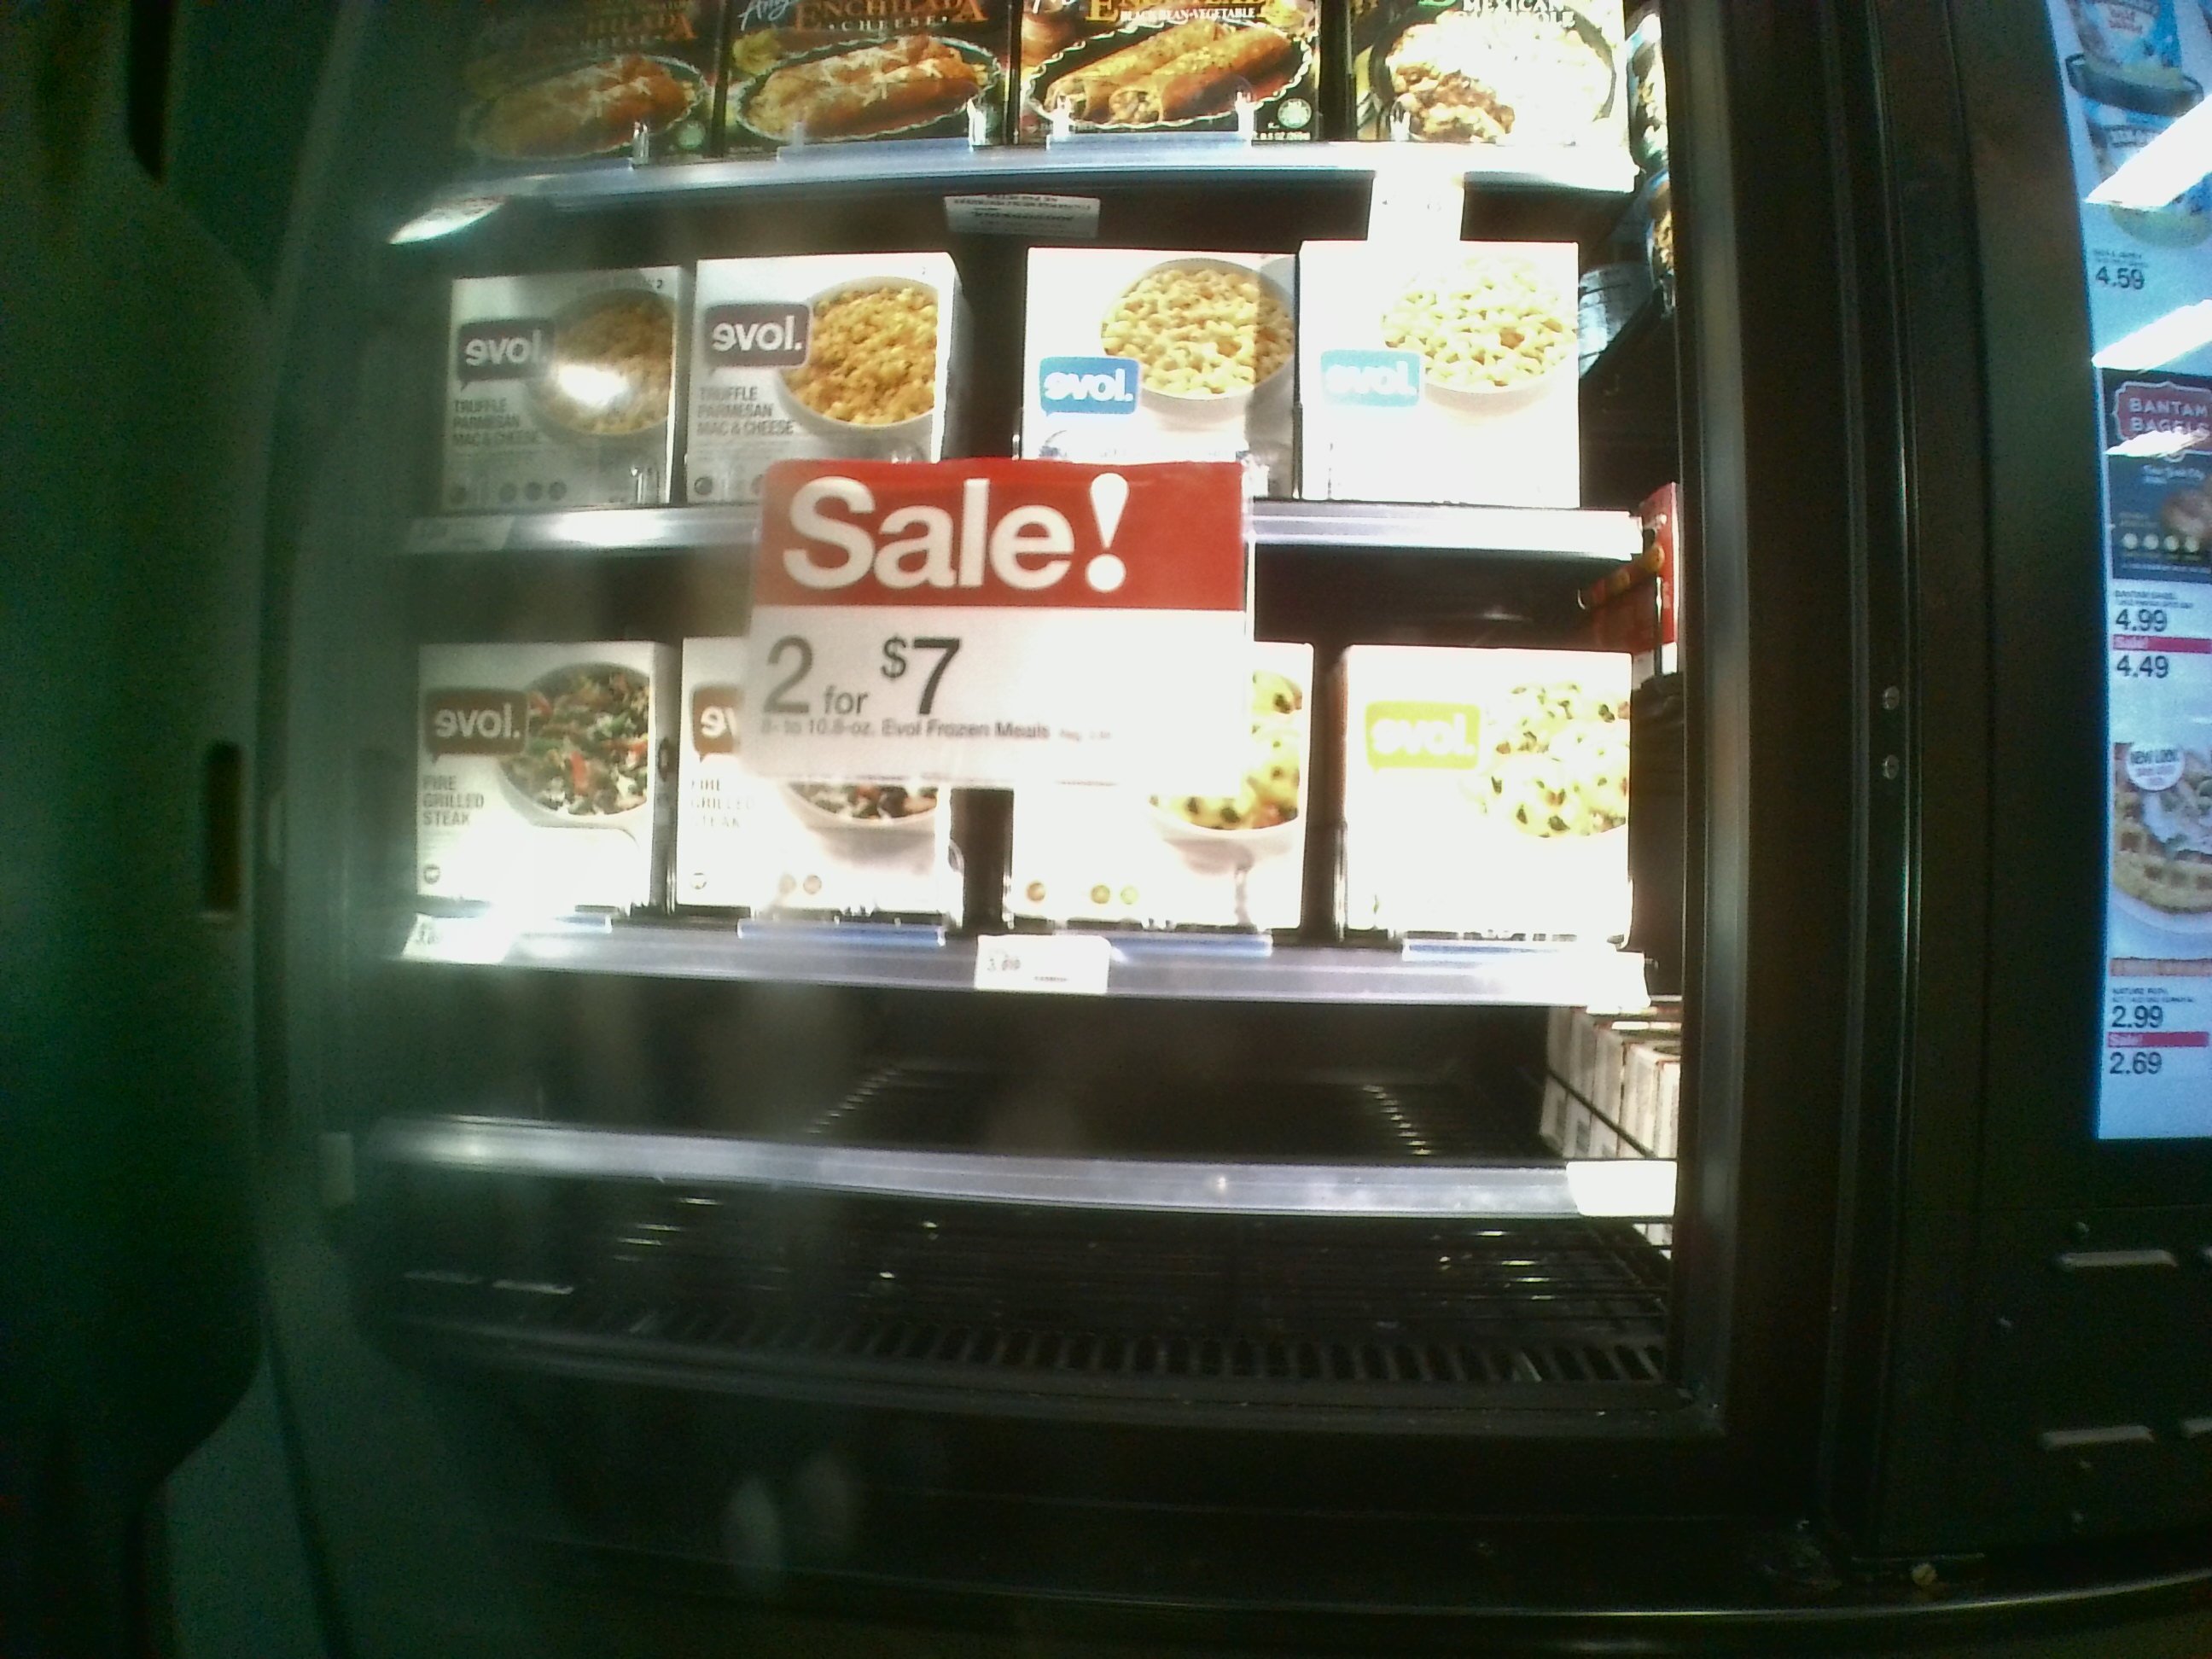shelf: (395, 549, 1663, 997), (394, 981, 1669, 1368), (399, 190, 1665, 549)
